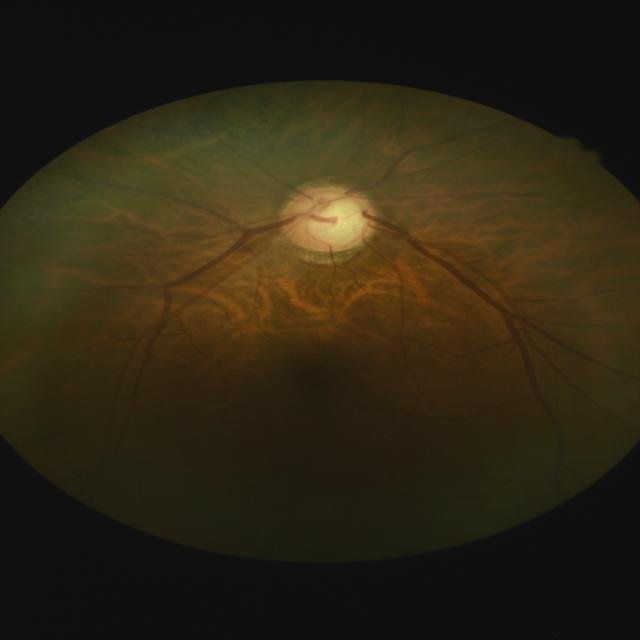cup: (298, 194, 365, 244)
disk: (280, 183, 376, 250)
